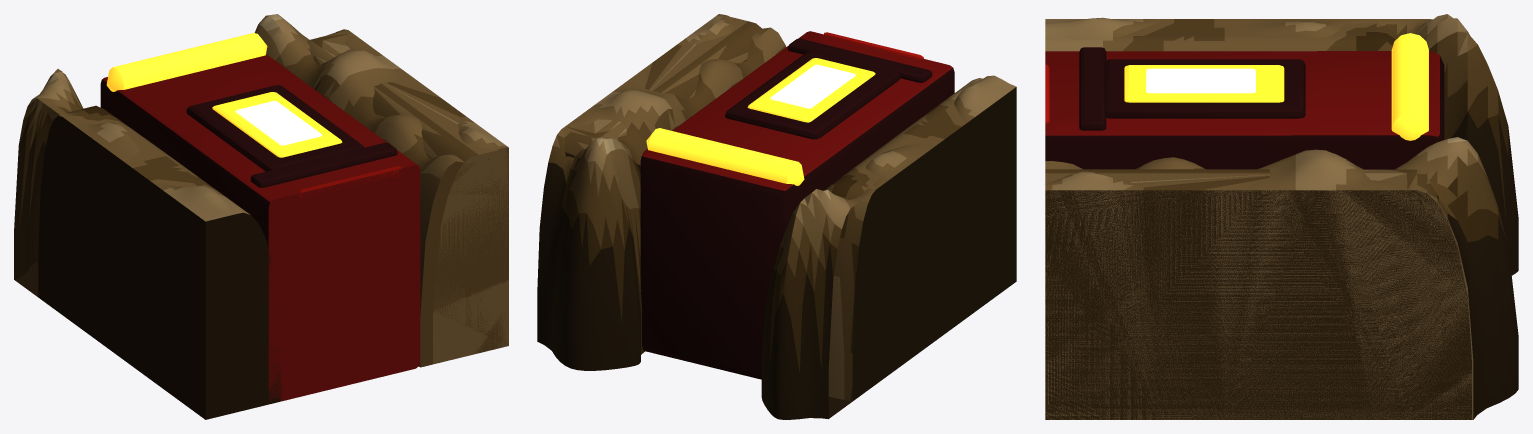
The model's file is ixm_wall_slot_top.glb.
3 views of the same model, side by side, from view 1: azimuth 30°, elevation 25°; view 2: azimuth 150°, elevation 25°; view 3: azimuth 270°, elevation 25° (orthographic). The views are drawn at different scales.
Parts seen in each view (by area): view 1: ixm_wall_slot_top_rock_end_l, ixm_wall_slot_top_house, ixm_wall_slot_top_rock_slot, ixm_wall_slot_top_rock_rock, ixm_wall_slot_top_window_frame, ixm_wall_slot_top_lip, ixm_wall_slot_top_window, ixm_wall_slot_top_band, ixm_wall_slot_top_window_core, ixm_wall_slot_top_panel_frame; view 2: ixm_wall_slot_top_rock_slot, ixm_wall_slot_top_house, ixm_wall_slot_top_rock_end_l, ixm_wall_slot_top_rock_rock, ixm_wall_slot_top_window_frame, ixm_wall_slot_top_lip, ixm_wall_slot_top_window, ixm_wall_slot_top_window_core, ixm_wall_slot_top_band, ixm_wall_slot_top_panel_frame; view 3: ixm_wall_slot_top_rock_rock, ixm_wall_slot_top_rock_slot, ixm_wall_slot_top_house, ixm_wall_slot_top_rock_end_l, ixm_wall_slot_top_window_frame, ixm_wall_slot_top_lip, ixm_wall_slot_top_window, ixm_wall_slot_top_window_core, ixm_wall_slot_top_band.
Part boxes in pixels (x1,y1,x2,y2): ixm_wall_slot_top_rock_end_l: [38, 105, 281, 419]; ixm_wall_slot_top_house: [100, 54, 420, 402]; ixm_wall_slot_top_rock_slot: [14, 14, 508, 367]; ixm_wall_slot_top_rock_rock: [307, 30, 508, 364]; ixm_wall_slot_top_window_frame: [186, 85, 364, 171]; ixm_wall_slot_top_lip: [106, 33, 267, 91]; ixm_wall_slot_top_window: [212, 92, 342, 157]; ixm_wall_slot_top_band: [250, 142, 397, 187]; ixm_wall_slot_top_window_core: [235, 101, 322, 145]; ixm_wall_slot_top_panel_frame: [299, 166, 401, 198]; ixm_wall_slot_top_rock_slot: [537, 14, 1016, 419]; ixm_wall_slot_top_house: [640, 31, 954, 379]; ixm_wall_slot_top_rock_end_l: [825, 78, 1016, 401]; ixm_wall_slot_top_rock_rock: [561, 17, 761, 157]; ixm_wall_slot_top_window_frame: [725, 51, 900, 139]; ixm_wall_slot_top_lip: [646, 128, 804, 185]; ixm_wall_slot_top_window: [747, 58, 875, 122]; ixm_wall_slot_top_window_core: [770, 64, 855, 108]; ixm_wall_slot_top_band: [788, 38, 932, 82]; ixm_wall_slot_top_panel_frame: [823, 32, 923, 59]; ixm_wall_slot_top_rock_rock: [1045, 169, 1471, 419]; ixm_wall_slot_top_rock_slot: [1045, 14, 1518, 419]; ixm_wall_slot_top_house: [1045, 51, 1444, 169]; ixm_wall_slot_top_rock_end_l: [1045, 19, 1397, 51]; ixm_wall_slot_top_window_frame: [1104, 59, 1305, 118]; ixm_wall_slot_top_lip: [1391, 33, 1428, 140]; ixm_wall_slot_top_window: [1124, 65, 1284, 102]; ixm_wall_slot_top_window_core: [1146, 68, 1255, 93]; ixm_wall_slot_top_band: [1079, 47, 1106, 130].
Size of the model in its own units: 24 by 16.6 by 28.
